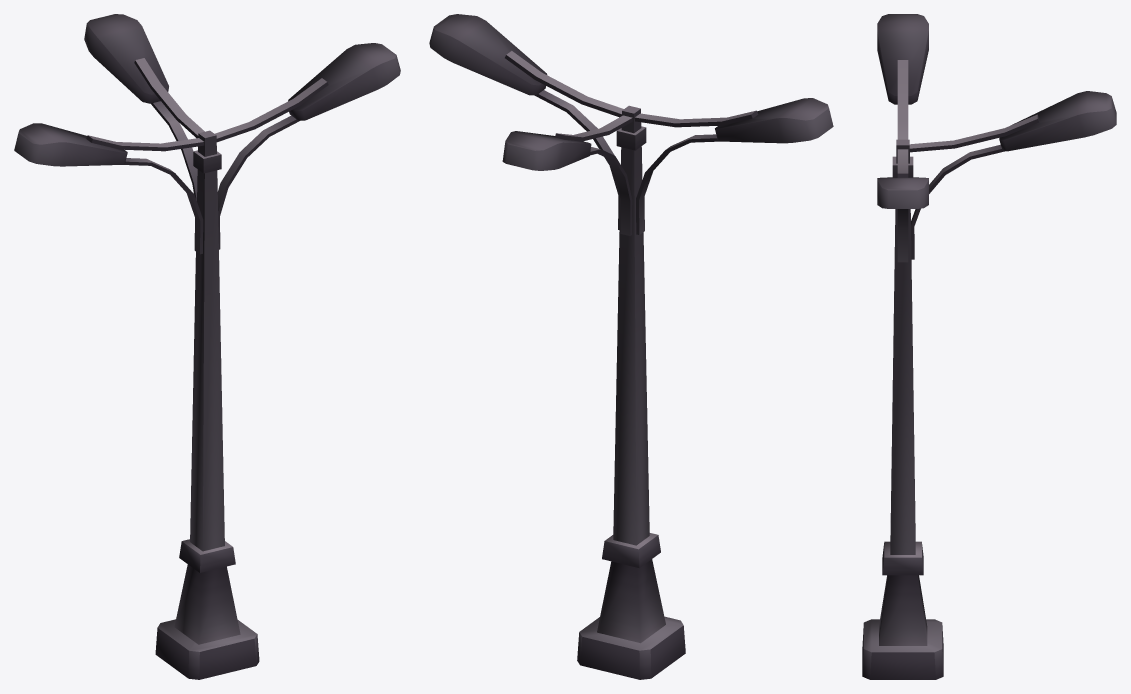
File: Streetlight_2C.fbx
The picture shows the model from 3 angles, left to right: view 1: azimuth 30°, elevation 25°; view 2: azimuth 150°, elevation 25°; view 3: azimuth 270°, elevation 25°; orthographic projection. The views are drawn at different scales.
Visible parts, largest first — view 1: Streetlight_2C; view 2: Streetlight_2C; view 3: Streetlight_2C.
Part boxes in pixels (bbox=[...]): Streetlight_2C: bbox=[14, 14, 400, 679]; Streetlight_2C: bbox=[429, 14, 833, 679]; Streetlight_2C: bbox=[862, 14, 1116, 679].
Bounding box in the file's own units: 572 × 829 × 340.
